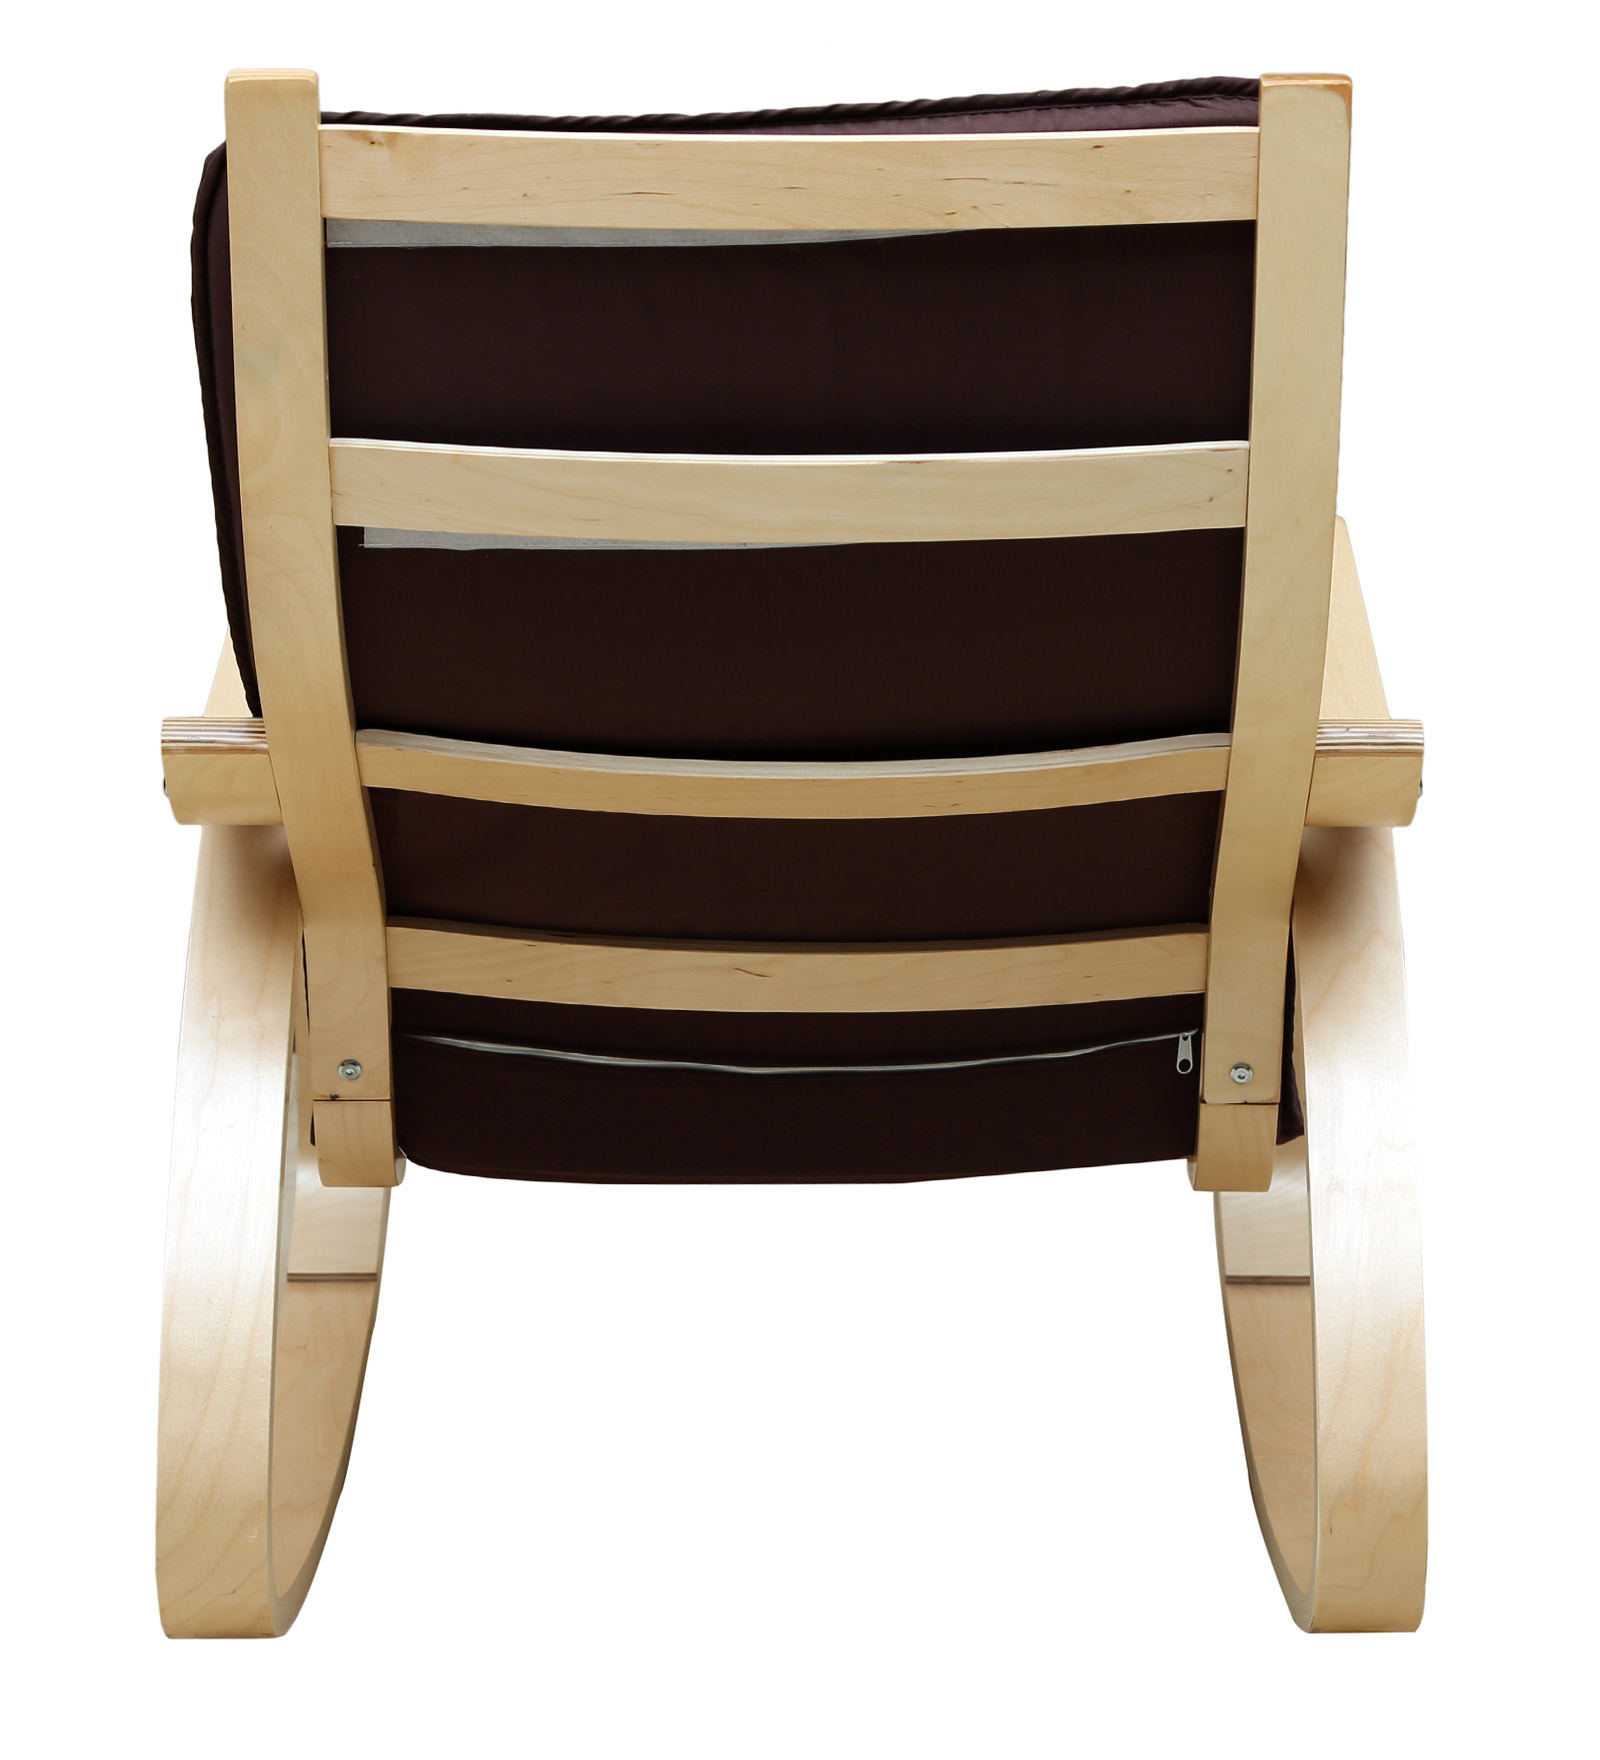Vita Rocking Chair with Brown Cushion by HomeTown: (83, 25, 1484, 1696)
